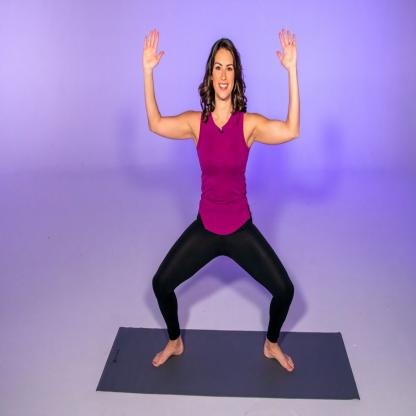godness: (136, 22, 309, 375)
